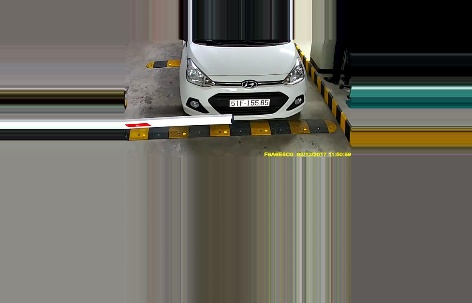plate: (229, 96, 270, 109)
